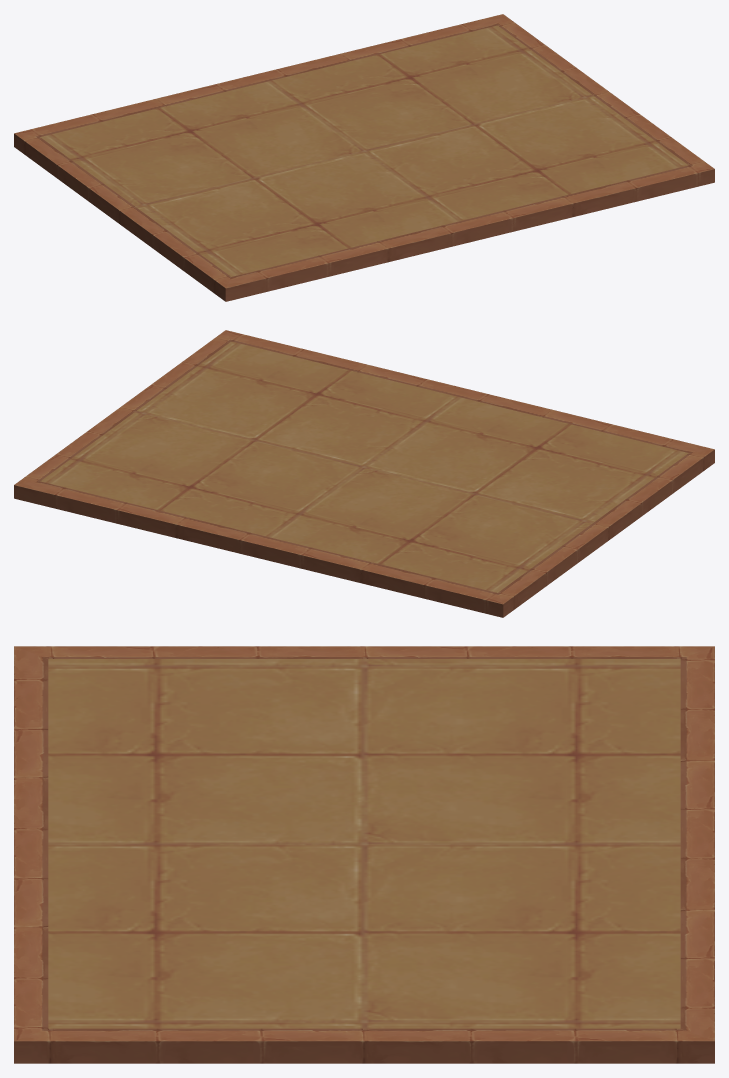
File: SV_BUD_shamo_yaosai_floor_2.FBX
3 views of the same model, one above another, from view 1: azimuth 30°, elevation 25°; view 2: azimuth 150°, elevation 25°; view 3: azimuth 270°, elevation 25° (orthographic). The views are drawn at different scales.
Visible parts, largest first — view 1: SV_BUD_shamo_yaosai_floor_2A, SV_BUD_shamo_yaosai_floor_2B; view 2: SV_BUD_shamo_yaosai_floor_2A, SV_BUD_shamo_yaosai_floor_2B; view 3: SV_BUD_shamo_yaosai_floor_2A, SV_BUD_shamo_yaosai_floor_2B.
Part boxes in pixels (x1,y1,x2,y2): SV_BUD_shamo_yaosai_floor_2A: (40,25,688,276); SV_BUD_shamo_yaosai_floor_2B: (14,14,714,301); SV_BUD_shamo_yaosai_floor_2A: (40,341,688,592); SV_BUD_shamo_yaosai_floor_2B: (14,330,714,617); SV_BUD_shamo_yaosai_floor_2A: (48,659,680,1028); SV_BUD_shamo_yaosai_floor_2B: (14,646,714,1063).
Bounding box in the file's own units: 20 × 0.5284 × 15.
2 materials, 2 textured.
